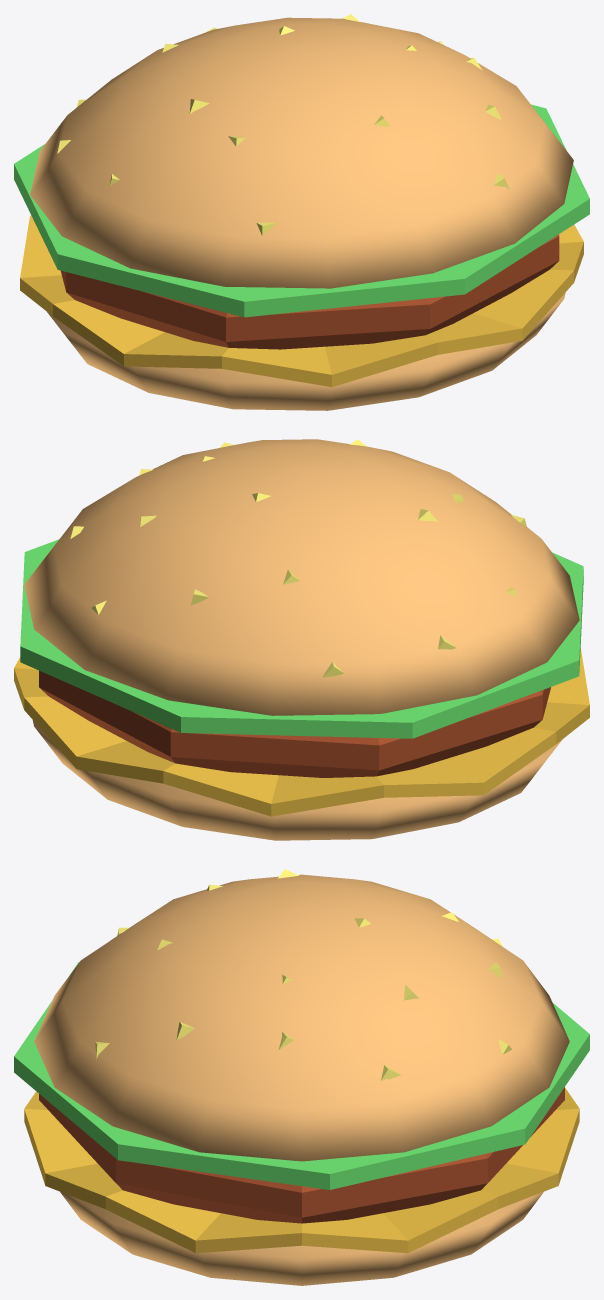
Rendered from burger.fbx.
3 views of the same model, one above another, from view 1: azimuth 30°, elevation 25°; view 2: azimuth 150°, elevation 25°; view 3: azimuth 270°, elevation 25° (orthographic). The views are drawn at different scales.
Parts seen in each view (by area): view 1: Cylinder, Cylinder.003, Cylinder.002, Cylinder.001, Cylinder.004; view 2: Cylinder, Cylinder.003, Cylinder.002, Cylinder.001, Cylinder.004; view 3: Cylinder, Cylinder.003, Cylinder.001, Cylinder.002, Cylinder.004.
Part boxes in pixels (bbox=[...]): Cylinder: bbox=[30, 17, 573, 288]; Cylinder.003: bbox=[20, 215, 583, 387]; Cylinder.002: bbox=[61, 234, 559, 349]; Cylinder.001: bbox=[14, 104, 589, 317]; Cylinder.004: bbox=[47, 293, 565, 410]; Cylinder: bbox=[24, 439, 579, 715]; Cylinder.003: bbox=[14, 648, 589, 816]; Cylinder.002: bbox=[39, 670, 550, 777]; Cylinder.001: bbox=[20, 539, 583, 738]; Cylinder.004: bbox=[32, 720, 562, 840]; Cylinder: bbox=[34, 874, 569, 1161]; Cylinder.003: bbox=[24, 1088, 579, 1253]; Cylinder.001: bbox=[14, 962, 589, 1189]; Cylinder.002: bbox=[39, 1087, 564, 1223]; Cylinder.004: bbox=[60, 1192, 543, 1285].
Size of the model in its own units: 149 by 72.07 by 140.
Materials: 1 (1 with a texture image).
